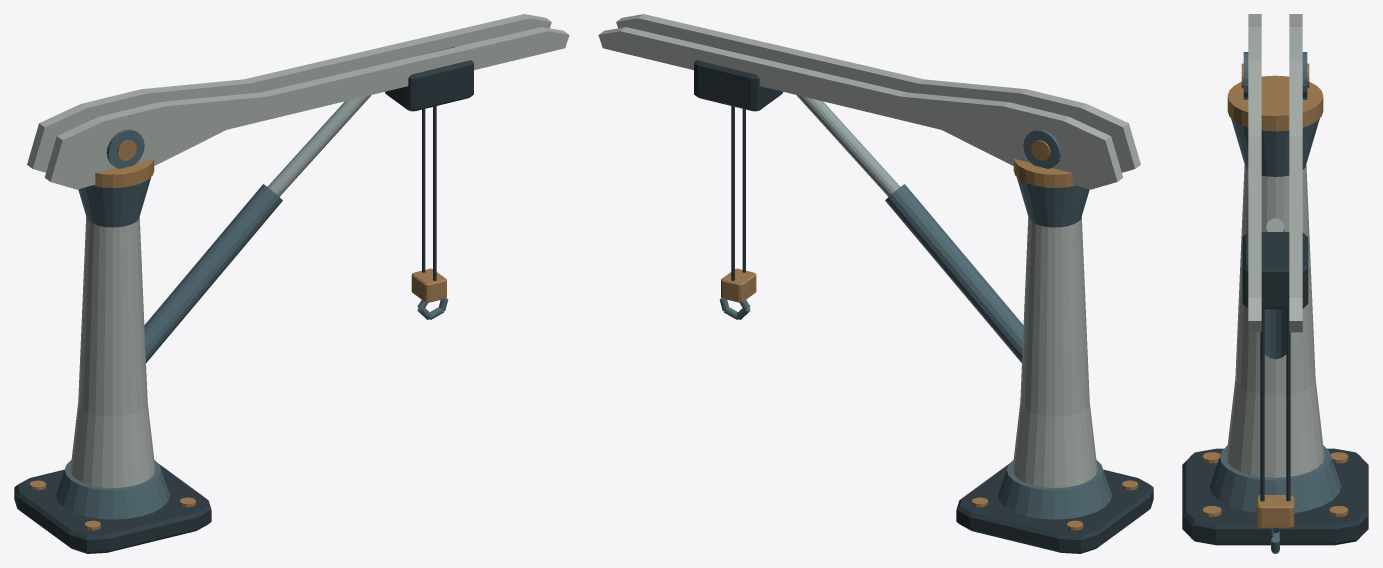
File: HM-03_pedestal_jib.glb
3 views of the same model, side by side, from view 1: azimuth 30°, elevation 25°; view 2: azimuth 150°, elevation 25°; view 3: azimuth 270°, elevation 25° (orthographic). The views are drawn at different scales.
Visible parts, largest first — view 1: HM-03_pedestal_jib; view 2: HM-03_pedestal_jib; view 3: HM-03_pedestal_jib.
Boxes of the visible parts, <box> form: HM-03_pedestal_jib: <box>14,14,569,553</box>; HM-03_pedestal_jib: <box>598,14,1153,553</box>; HM-03_pedestal_jib: <box>1182,14,1368,553</box>.
Size of the model in its own units: 5.35 by 4 by 1.44.
